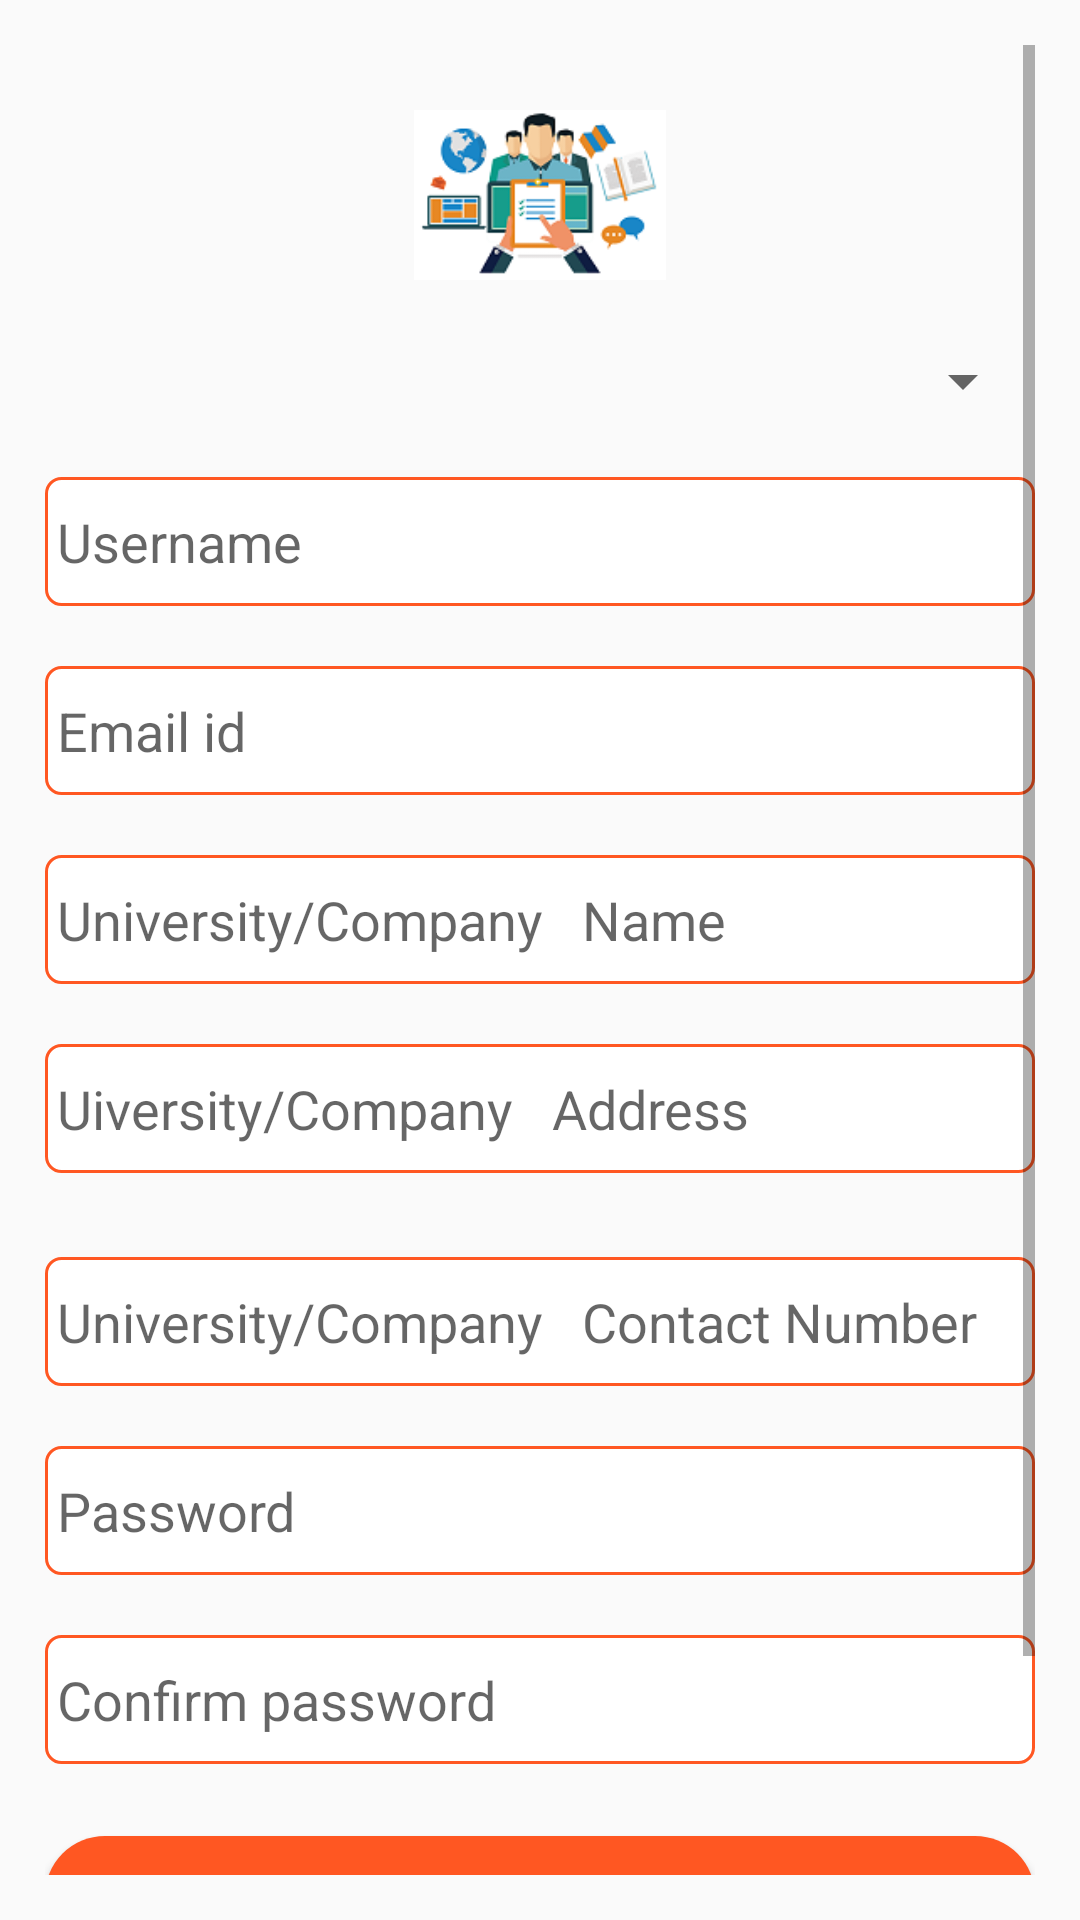

Where icons sit on this 1080 x 1920 app screen, as BBox(x1, y1, x2, y2):
recruitment: BBox(422, 113, 656, 274)
